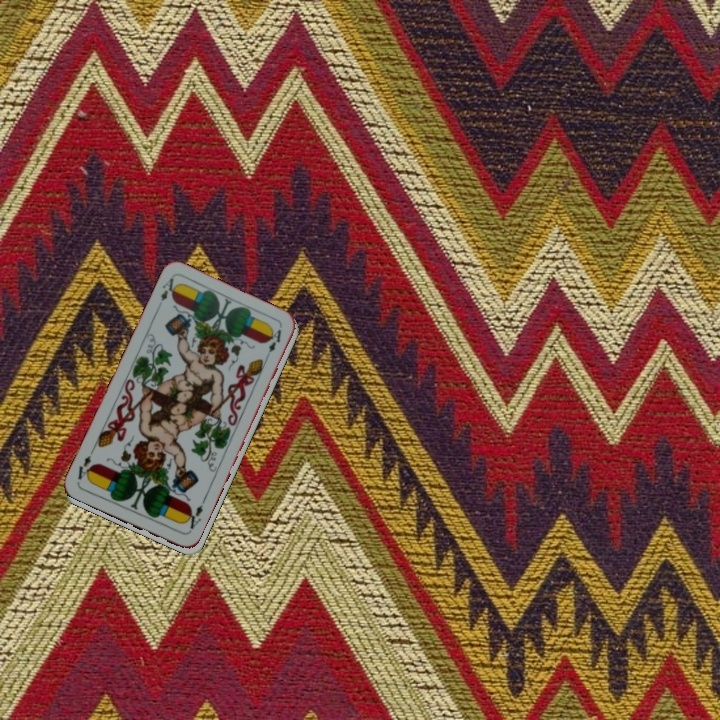EA: (180, 501, 205, 535), (156, 273, 180, 304)
